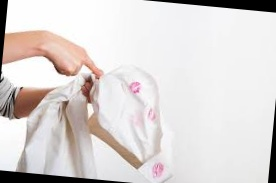lipstick: (127, 78, 144, 97), (150, 160, 165, 180), (144, 107, 160, 122)
